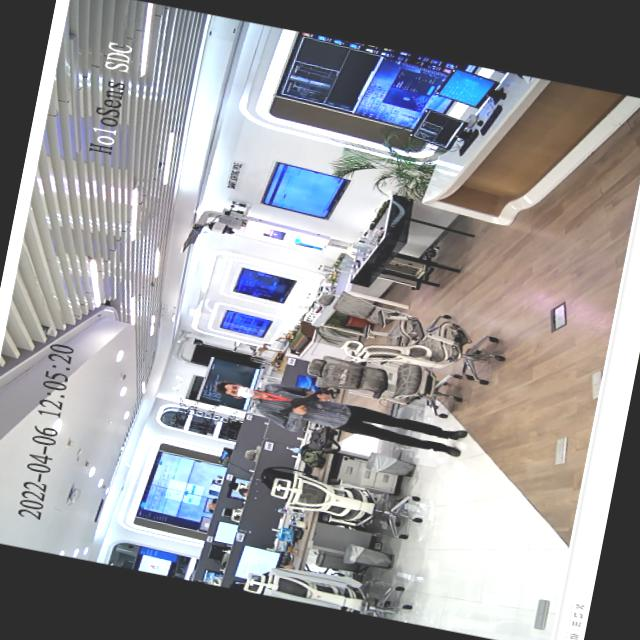long weapon: (276, 376, 344, 426)
